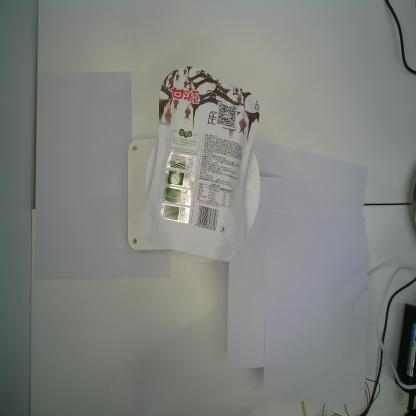Dried Fruit: (140, 65, 261, 262)
